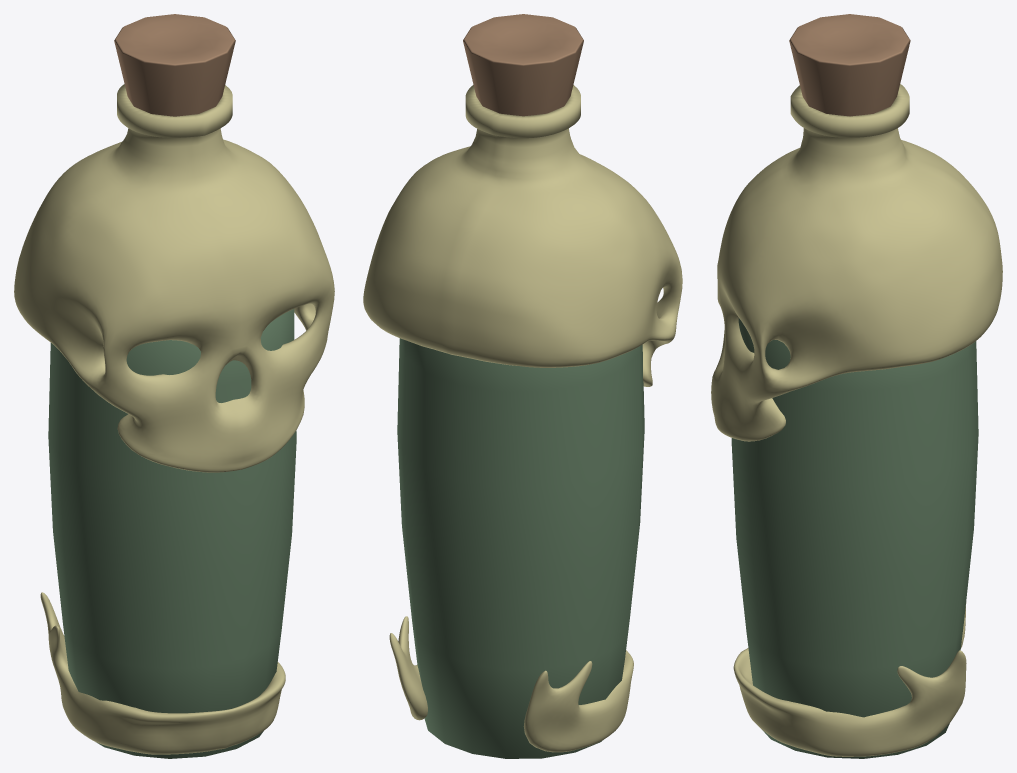
Rendered from poison_pot.fbx.
3 views of the same model, side by side, from view 1: azimuth 30°, elevation 25°; view 2: azimuth 150°, elevation 25°; view 3: azimuth 270°, elevation 25° (orthographic).
Parts seen in each view (by area): view 1: polySurface51, polySurface50, pCylinder41; view 2: polySurface50, polySurface51, pCylinder41; view 3: polySurface51, polySurface50, pCylinder41.
Part boxes in pixels (bbox=[...]): polySurface51: bbox=[14, 84, 334, 754]; polySurface50: bbox=[48, 309, 296, 758]; pCylinder41: bbox=[114, 14, 235, 116]; polySurface50: bbox=[397, 338, 644, 758]; polySurface51: bbox=[363, 85, 682, 752]; pCylinder41: bbox=[463, 14, 583, 116]; polySurface51: bbox=[711, 84, 1002, 756]; polySurface50: bbox=[731, 318, 978, 758]; pCylinder41: bbox=[789, 14, 910, 116].
Bounding box in the file's own units: 7.97 × 19.75 × 7.69.
